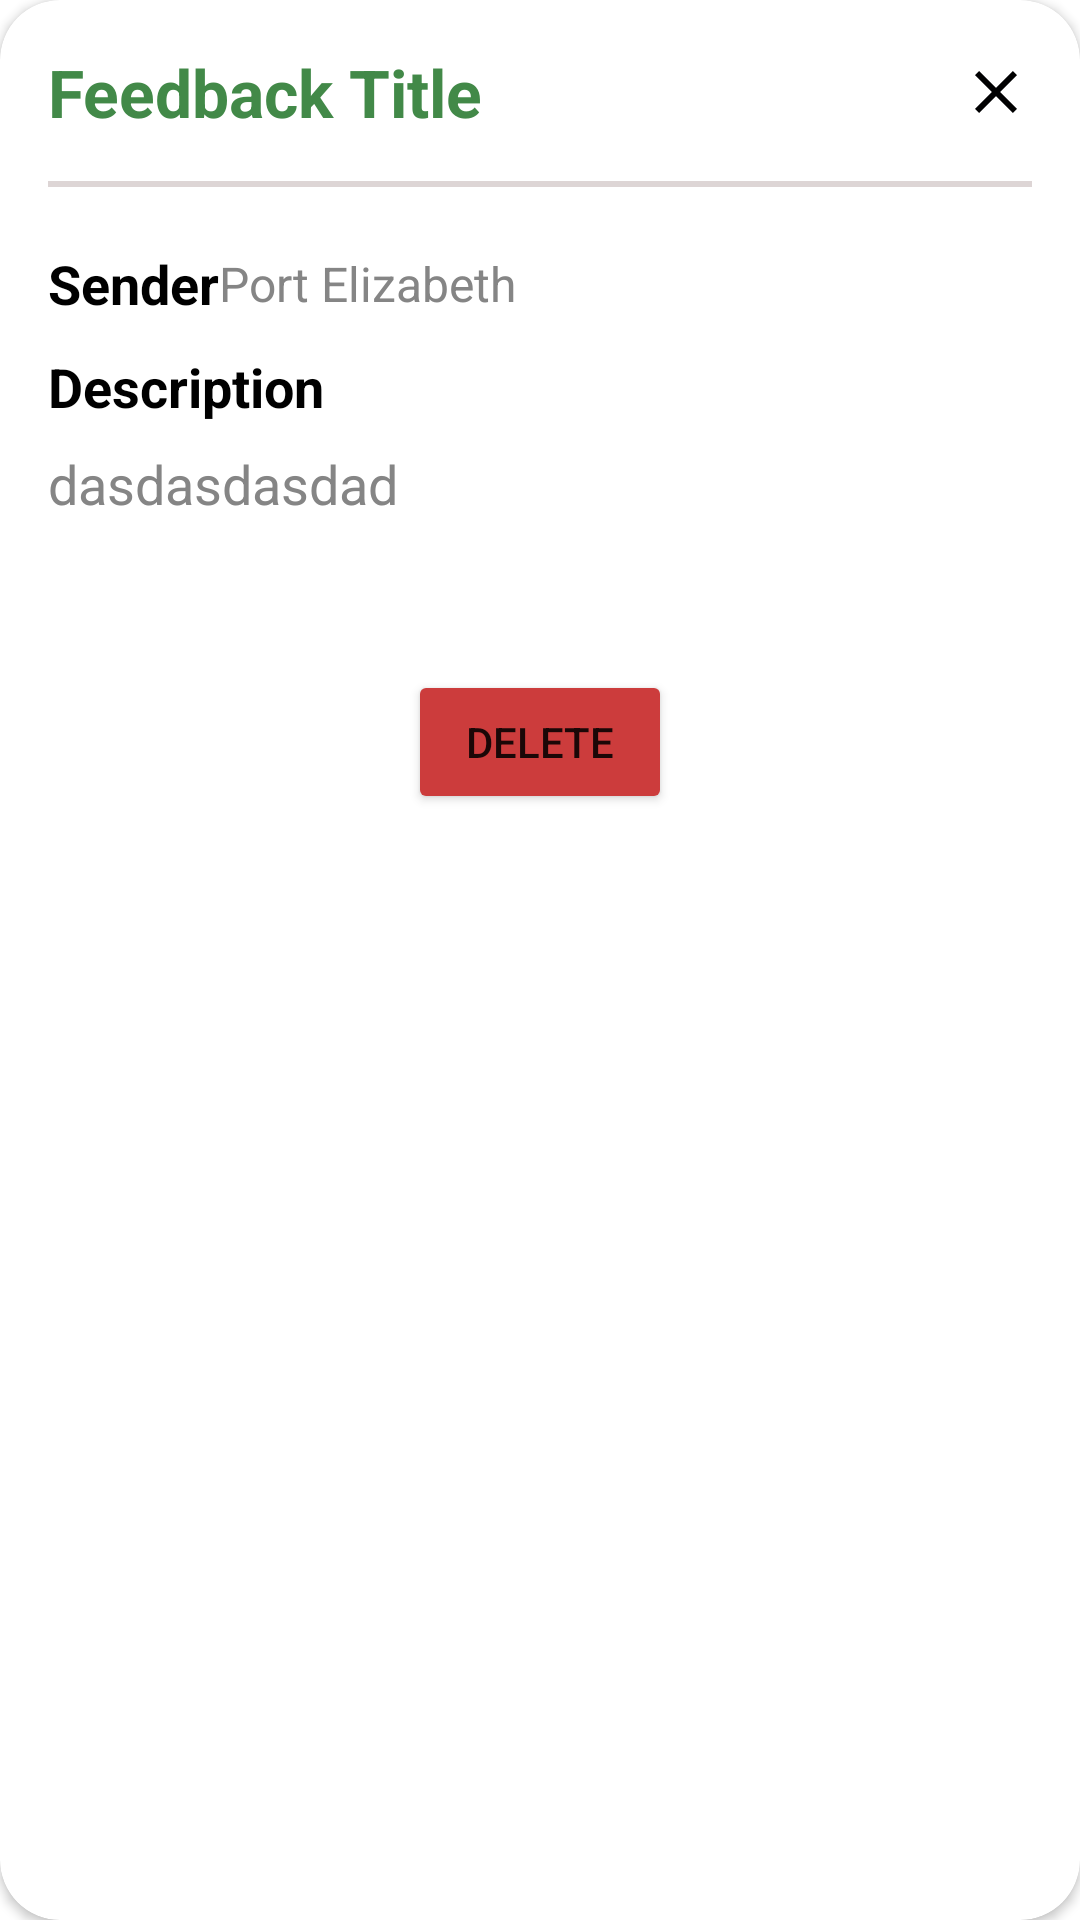

Where icons sit on this 1080 x 1920 app screen, as [x1,y1,x2,y2]:
exit: [975,71,1017,113]
